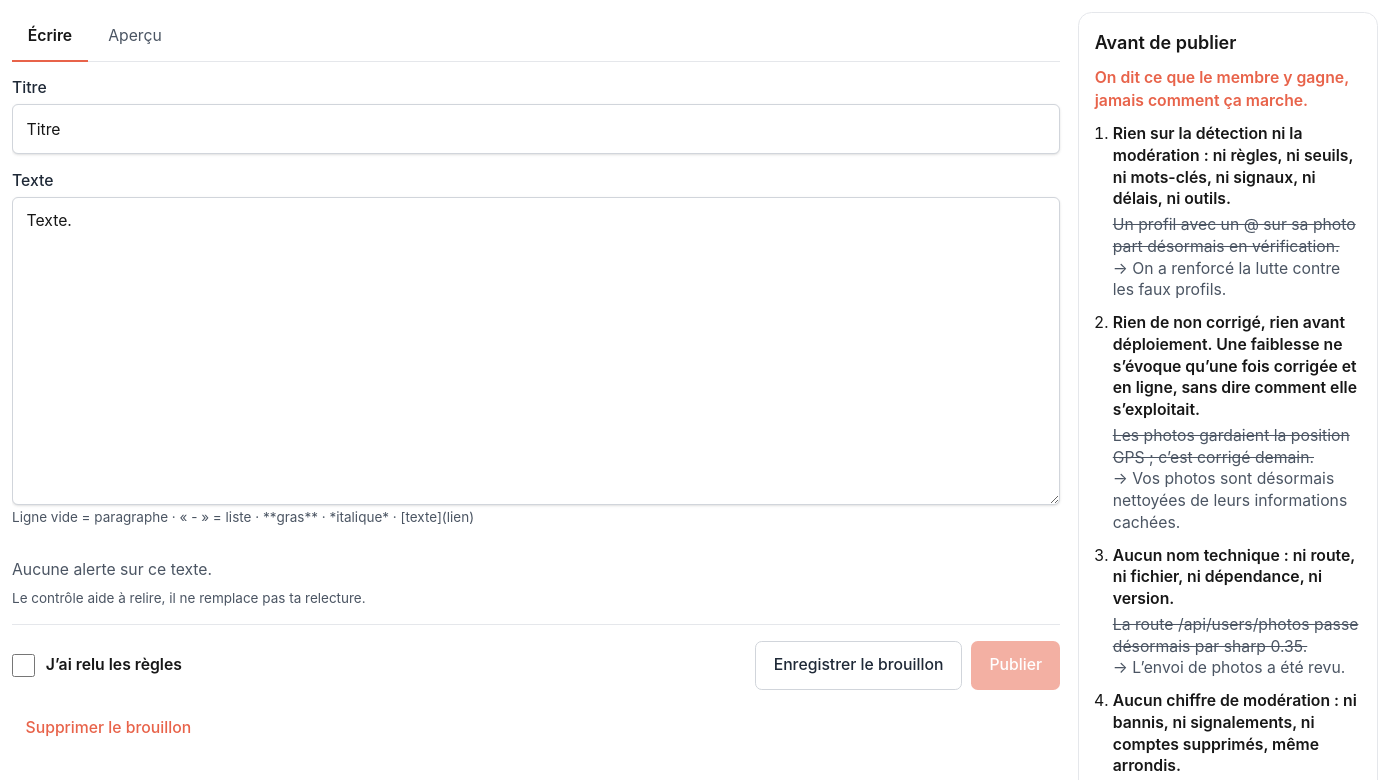
Test case: <JournalEditeur /> › texte propre : Publier ne s’active qu’avec « J’ai relu les règles »
Expected: the text "Aucune alerte sur ce texte." is shown, x1=12 y1=560 x2=212 y2=579
Expected: the button "Publier" is disabled, x1=971 y1=641 x2=1060 y2=690
Click the checkbox labelled "J’ai relu les règles": point(23, 666) x1=12 y1=654 x2=34 y2=677
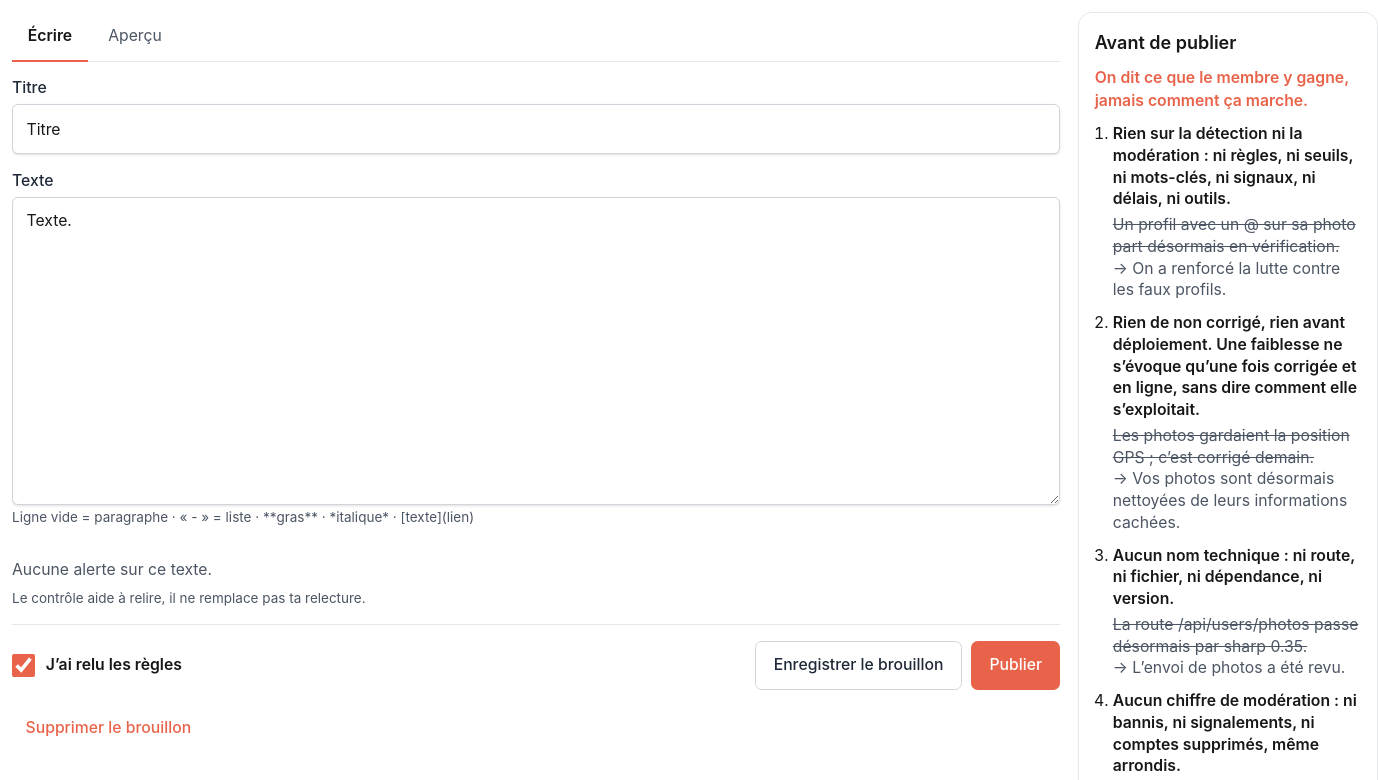
Result: the button "Publier" is enabled at x1=971 y1=641 x2=1060 y2=690
